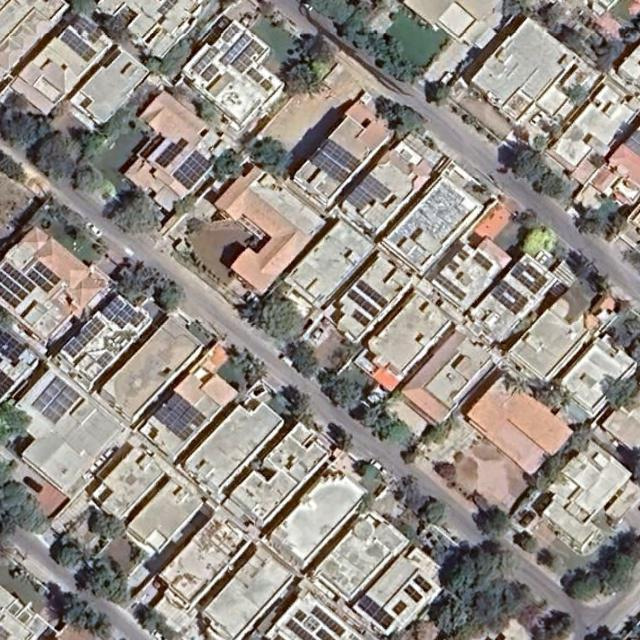solar panel: (155, 391, 207, 443), (32, 375, 80, 424), (101, 292, 146, 337), (64, 317, 106, 359), (173, 150, 211, 189), (59, 29, 97, 65), (491, 279, 529, 315), (510, 259, 548, 295), (357, 595, 396, 630), (322, 139, 361, 172), (311, 152, 350, 183), (155, 135, 189, 170), (231, 39, 264, 75), (219, 32, 252, 66), (2, 262, 36, 293), (312, 607, 346, 636), (71, 15, 103, 45), (346, 289, 380, 317), (355, 280, 388, 308), (0, 271, 29, 302), (360, 174, 392, 202), (435, 273, 467, 300), (193, 46, 221, 74), (34, 261, 61, 287), (346, 185, 373, 211), (286, 619, 317, 640), (28, 270, 53, 293), (0, 284, 22, 309), (403, 583, 424, 604), (472, 251, 493, 271), (413, 574, 433, 593), (222, 24, 240, 43), (96, 351, 114, 369), (201, 64, 219, 82), (351, 310, 370, 327), (391, 599, 408, 616), (247, 68, 263, 84), (316, 628, 335, 640), (294, 610, 307, 623), (447, 259, 460, 272), (458, 249, 470, 261), (260, 79, 272, 91)
